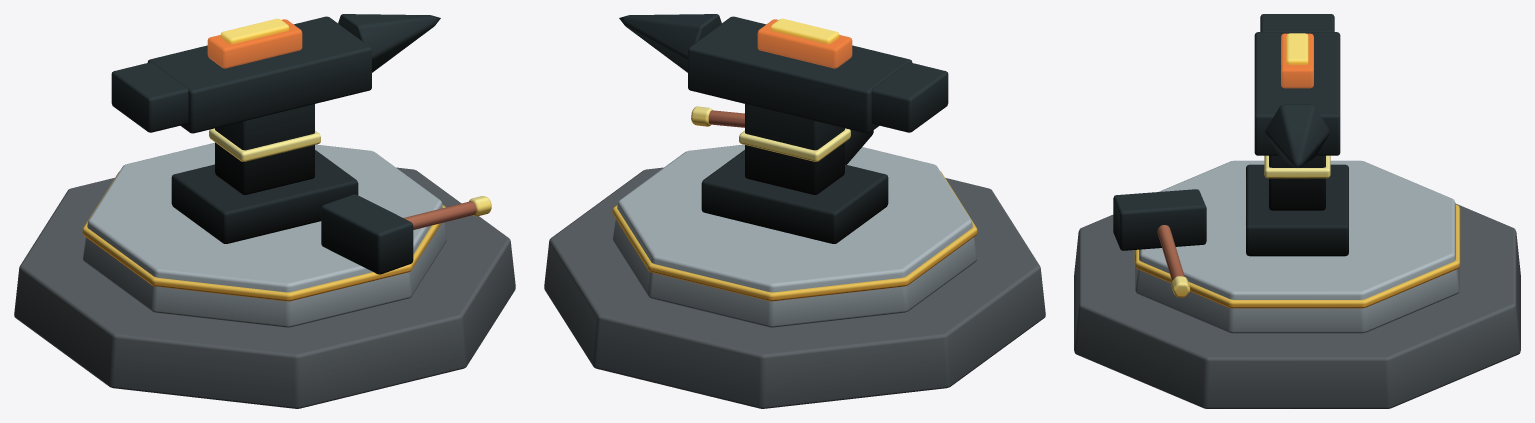
The model's file is great_anvil.glb.
The picture shows the model from 3 angles, left to right: view 1: azimuth 30°, elevation 25°; view 2: azimuth 150°, elevation 25°; view 3: azimuth 270°, elevation 25°; orthographic projection. The views are drawn at different scales.
Visible parts, largest first — view 1: great_anvil; view 2: great_anvil; view 3: great_anvil.
Boxes of the visible parts, bbox=[...] form: great_anvil: bbox=[14, 14, 515, 408]; great_anvil: bbox=[544, 14, 1045, 408]; great_anvil: bbox=[1074, 14, 1520, 408].
Size of the model in its own units: 4.06 by 2.66 by 4.06.
Materials: 3 (3 with a texture image).
